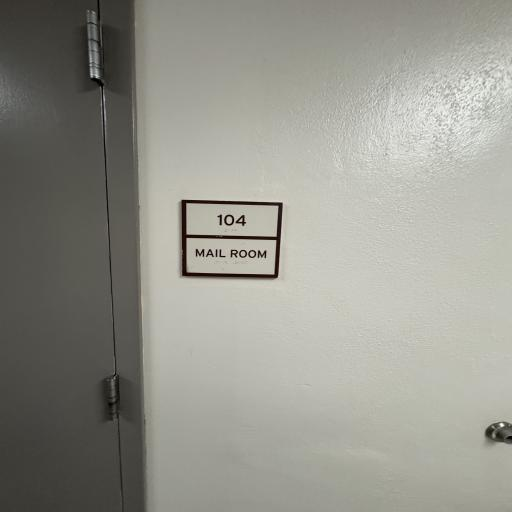door: (0, 0, 121, 512)
room 104 sign: (183, 195, 284, 287)
